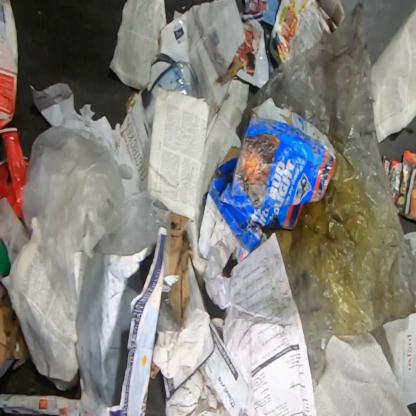cardboard: (120, 0, 247, 192), (197, 96, 336, 265), (383, 148, 416, 225), (0, 0, 19, 130)
rigid_plastic: (0, 127, 29, 220)
soft_plastic: (253, 0, 415, 385), (22, 126, 171, 323), (156, 291, 183, 332)
